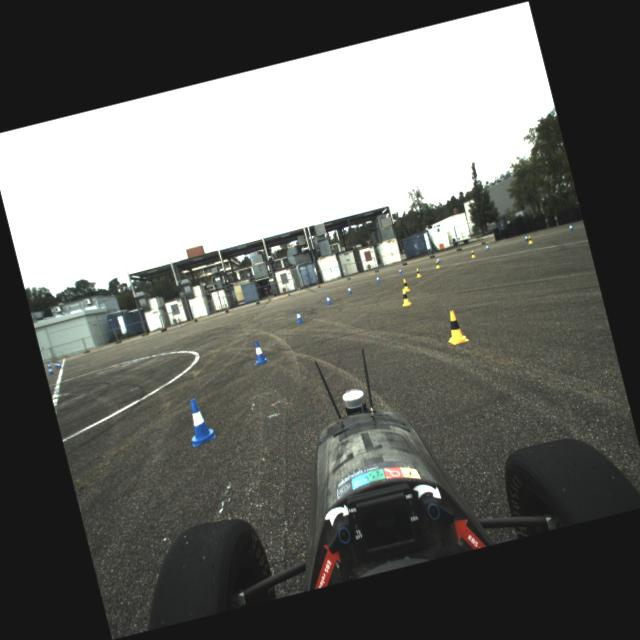blue_cone: (182, 394, 218, 448), (248, 338, 270, 365), (294, 308, 304, 324), (325, 294, 332, 305), (47, 364, 54, 374), (346, 284, 352, 294), (567, 222, 574, 230), (374, 274, 380, 283), (56, 361, 62, 368), (523, 234, 528, 242), (484, 243, 489, 250), (436, 255, 441, 262), (46, 361, 51, 368), (398, 266, 402, 274), (54, 360, 58, 368)
yellow_cone: (441, 308, 469, 346), (398, 288, 411, 306), (401, 278, 410, 292), (414, 267, 422, 278), (526, 235, 532, 244), (434, 260, 440, 268), (470, 249, 476, 257)
